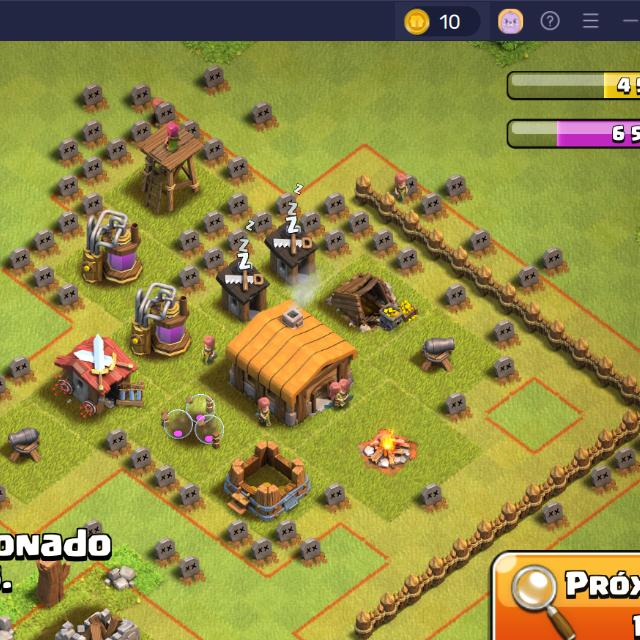Arqueira: (139, 121, 203, 210)
Canhao: (418, 332, 458, 375), (6, 423, 40, 462)
